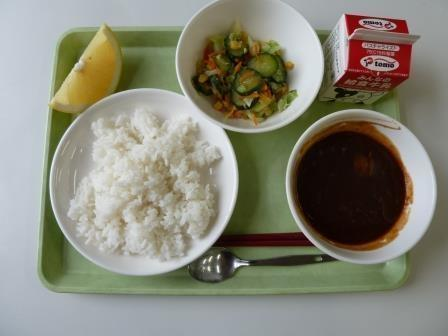Citrus: (49, 20, 125, 115)
Milk: (321, 11, 415, 101)
Rice: (65, 117, 220, 256)
Salad: (195, 22, 307, 120)
soup-plain: (295, 120, 430, 246)
